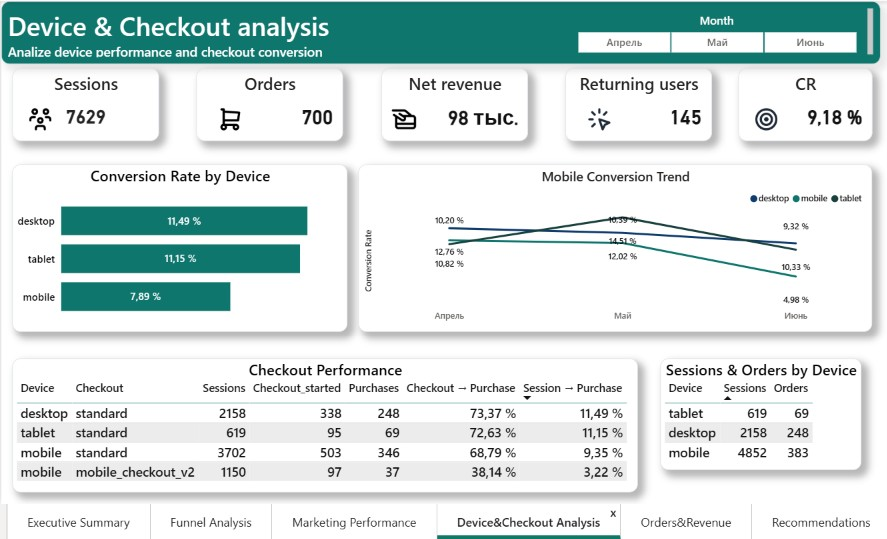

The page's visual inventory and layout, read from the dashboard file:
{"tool":"powerbi","page":{"name":"Device&Checkout Analysis","canvas":[1280,720],"ordinal":3},"visuals":[{"type":"textbox","box":[0,0,1259,90],"z":0},{"type":"slicer","title":"Month","fields":{"Values":["dim_calendar.Month"]},"box":[800,16,448,64],"z":1000},{"type":"image","box":[32,144,48,48],"z":3000},{"type":"card","title":"Sessions","fields":{"Values":["_Measure.0_Session_All"]},"box":[16,96,210,104],"z":4000},{"type":"cardVisual","title":"CR","fields":{"Data":["_Measure.CR"]},"box":[1056,96,192,104],"z":6000},{"type":"cardVisual","title":"Net revenue","fields":{"Data":["_Measure.Net revenue"]},"box":[544,96,210,104],"z":7000},{"type":"image","box":[304,144,48,48],"z":8000},{"type":"image","box":[544,144,64,48],"z":9000},{"type":"cardVisual","title":"Orders","fields":{"Data":["_Measure.Orders"]},"box":[280,96,210,104],"z":10000},{"type":"cardVisual","title":"Returning users","fields":{"Data":["_Measure.Returning Users"]},"box":[808,96,210,104],"z":11000},{"type":"image","box":[1072,144,48,48],"z":13000},{"type":"image","box":[832,144,48,48],"z":14000},{"type":"barChart","title":"Conversion Rate by Device","fields":{"Y":["_Measure.CR"],"Category":["fact_sessions.device"]},"box":[16,233.4,480,240],"z":17000},{"type":"lineChart","title":"Mobile Conversion Trend","fields":{"Series":["fact_sessions.device"],"Category":["dim_calendar.Month"],"Y":["_Measure.Session_to_Purchase"]},"box":[512,233.4,736,240],"z":18000},{"type":"tableEx","title":"Checkout Performance","fields":{"Values":["fact_sessions.device","fact_sessions.checkout_flow_version","_Measure.0_Session_All","_Measure.Checkout_started","_Measure.Purchases","_Measure.Checkout_to_Purchase","_Measure.Session_to_Purchase"]},"box":[16,512,896,192],"z":19000},{"type":"tableEx","title":" Sessions & Orders by Device","fields":{"Values":["fact_sessions.device","_Measure.0_Session_All","_Measure.Orders"]},"box":[944,512,288,160],"z":20000}]}

Visuals, with their boxes on the page's 1280x720 design canvas (x1, y1, x2, y2). These are canvas units, not pixel positions in the 887x539 screenshot, which may show the page scaled, cropped or inside an application window:
textbox: <region>0, 0, 1259, 90</region>
"Month" slicer: <region>800, 16, 1248, 80</region>
image: <region>32, 144, 80, 192</region>
"Sessions" card: <region>16, 96, 226, 200</region>
"CR" cardVisual: <region>1056, 96, 1248, 200</region>
"Net revenue" cardVisual: <region>544, 96, 754, 200</region>
image: <region>304, 144, 352, 192</region>
image: <region>544, 144, 608, 192</region>
"Orders" cardVisual: <region>280, 96, 490, 200</region>
"Returning users" cardVisual: <region>808, 96, 1018, 200</region>
image: <region>1072, 144, 1120, 192</region>
image: <region>832, 144, 880, 192</region>
"Conversion Rate by Device" barChart: <region>16, 233, 496, 473</region>
"Mobile Conversion Trend" lineChart: <region>512, 233, 1248, 473</region>
"Checkout Performance" tableEx: <region>16, 512, 912, 704</region>
" Sessions & Orders by Device" tableEx: <region>944, 512, 1232, 672</region>
